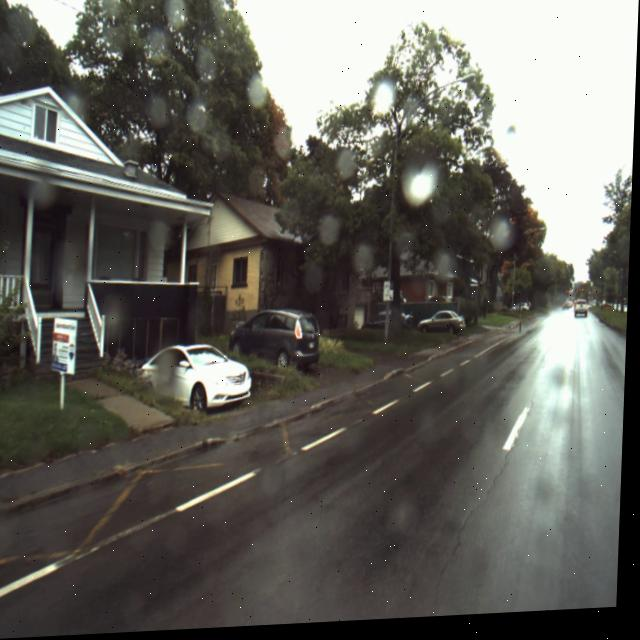car: (144, 344, 255, 422), (231, 311, 325, 378), (420, 316, 469, 343), (576, 305, 592, 326)
